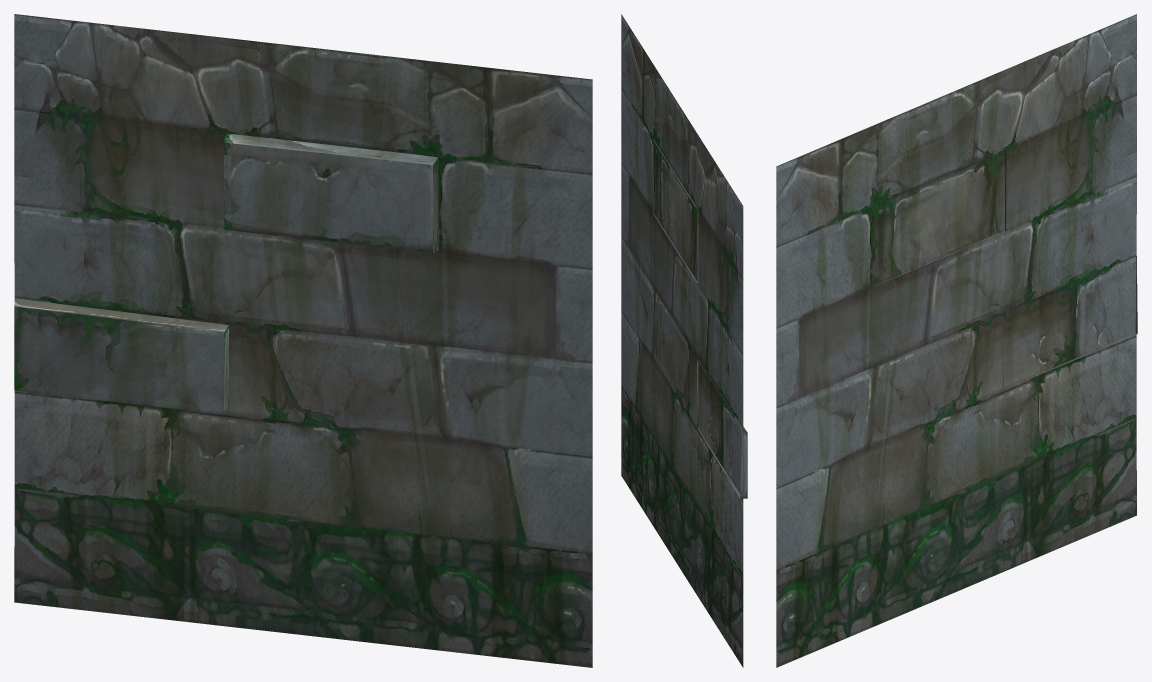
The model's file is stemple_wall_diagonal_06.fbx.
3 renders of one model, left to right at view 1: azimuth 30°, elevation 25°; view 2: azimuth 150°, elevation 25°; view 3: azimuth 270°, elevation 25°, orthographic. The views are drawn at different scales.
Parts seen in each view (by area): view 1: stemple_wall_diagonal_06-0; view 2: stemple_wall_diagonal_06-0; view 3: stemple_wall_diagonal_06-0.
Part boxes in pixels (box(x1,y1,x2,y2)): stemple_wall_diagonal_06-0: box(14, 14, 592, 667); stemple_wall_diagonal_06-0: box(621, 14, 747, 667); stemple_wall_diagonal_06-0: box(776, 14, 1137, 667).
Size of the model in its own units: 3.61 by 5.5 by 3.59.
